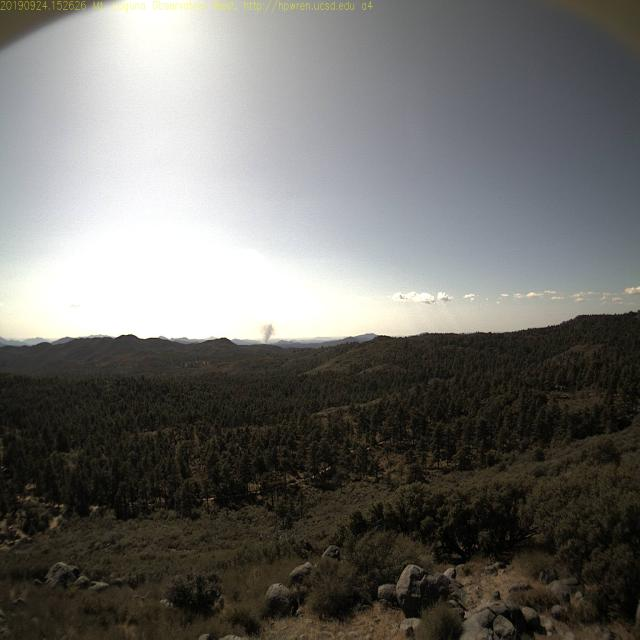smoke: (258, 320, 274, 346)
